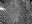person: (1, 6, 8, 11)
